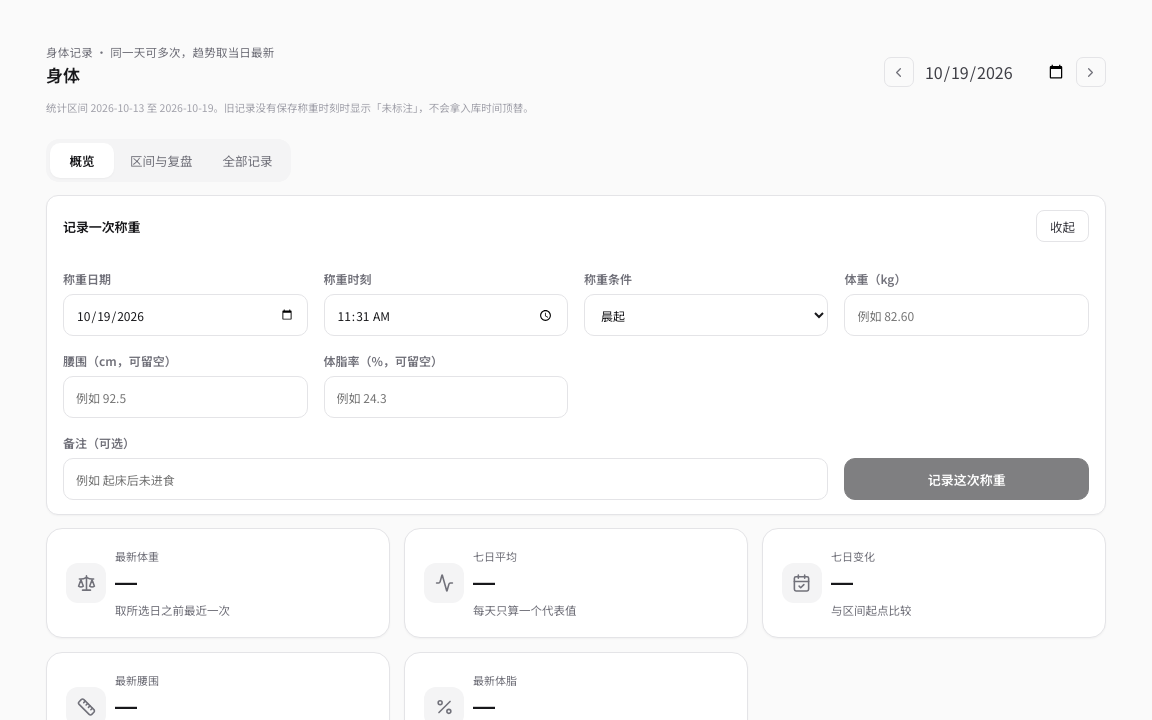
shows an empty history instead of a blank table
Click the tab "全部记录" at (248, 161), box [209, 143, 287, 178]
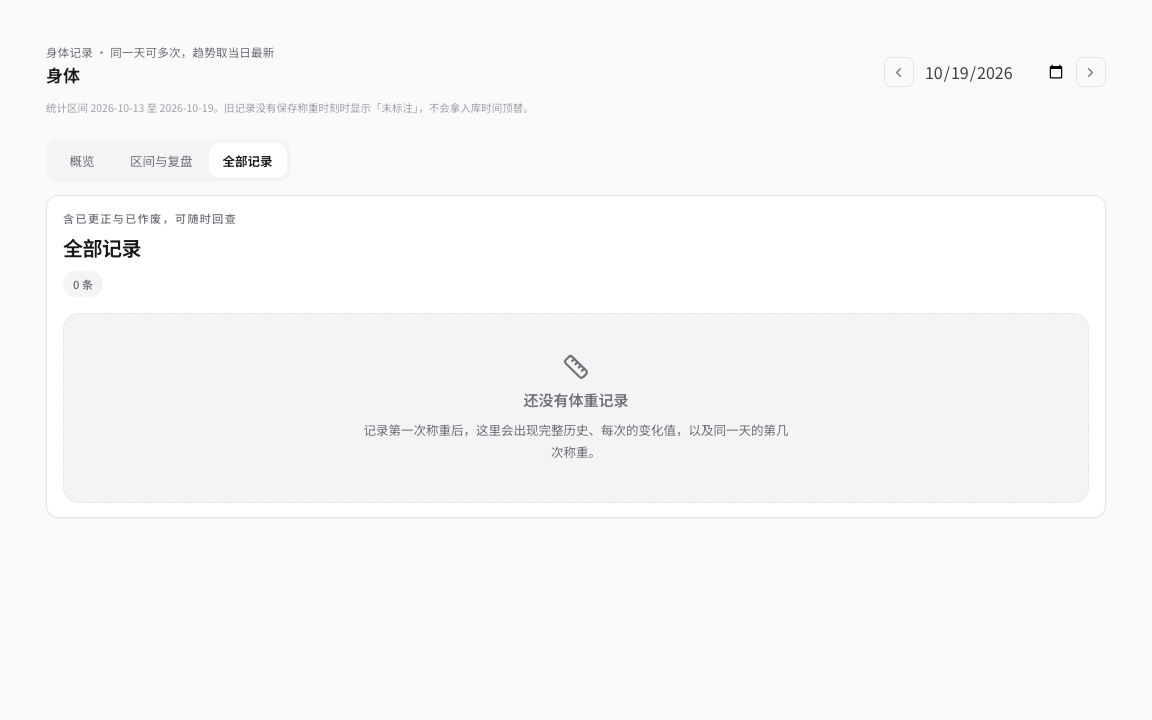
Expected: the element with class "body-empty" shows "还没有体重记录", [524, 389, 628, 410]
